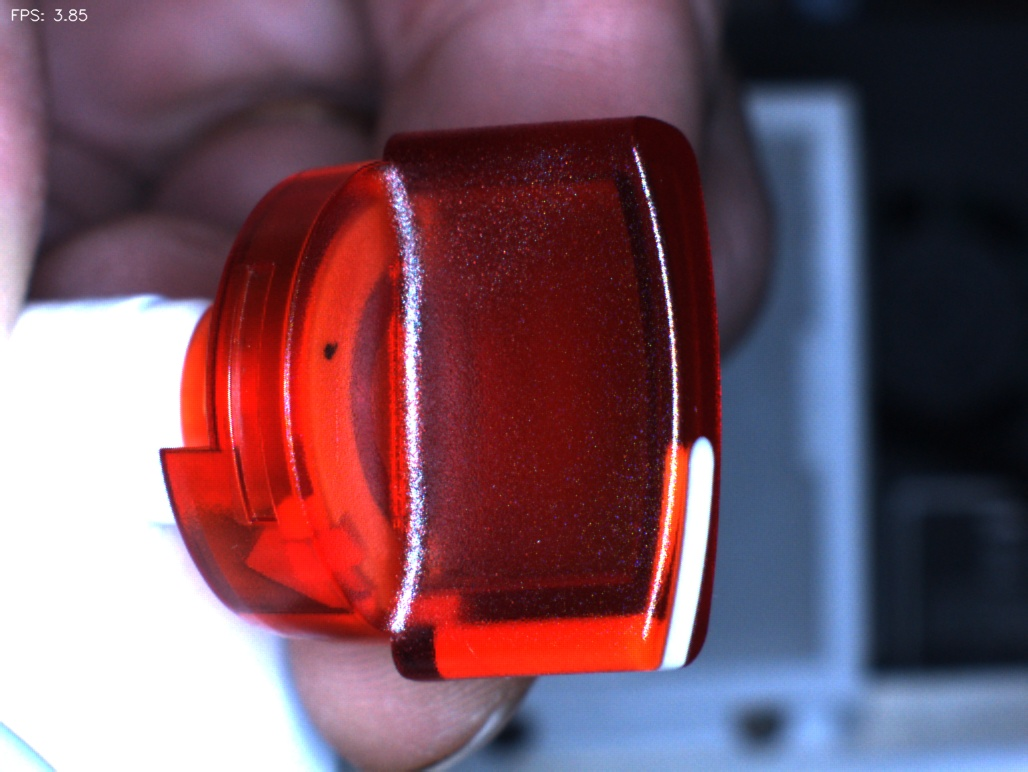PointNoir: (291, 306, 371, 398)
